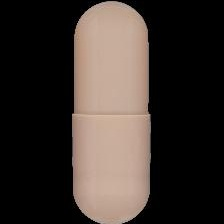0299-3822: (0, 0, 224, 224)
